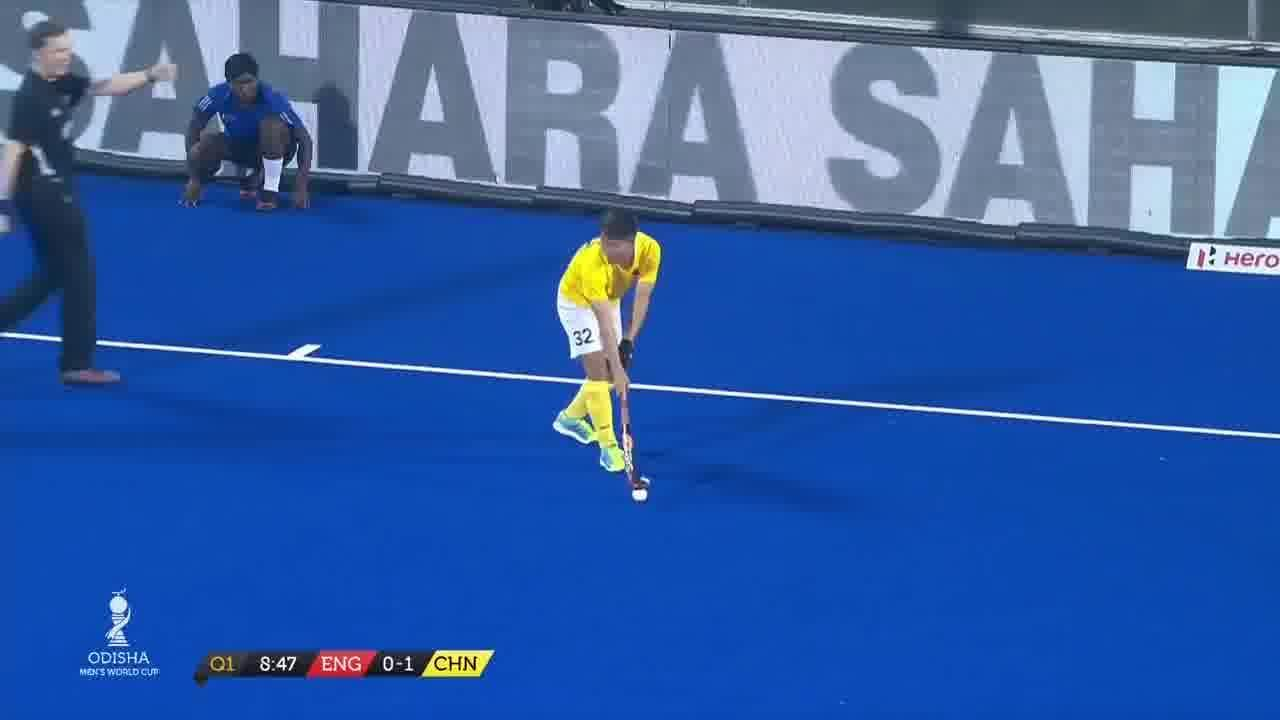ball: (628, 480, 652, 514)
